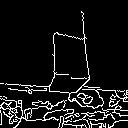cube: (29, 28, 109, 101)
